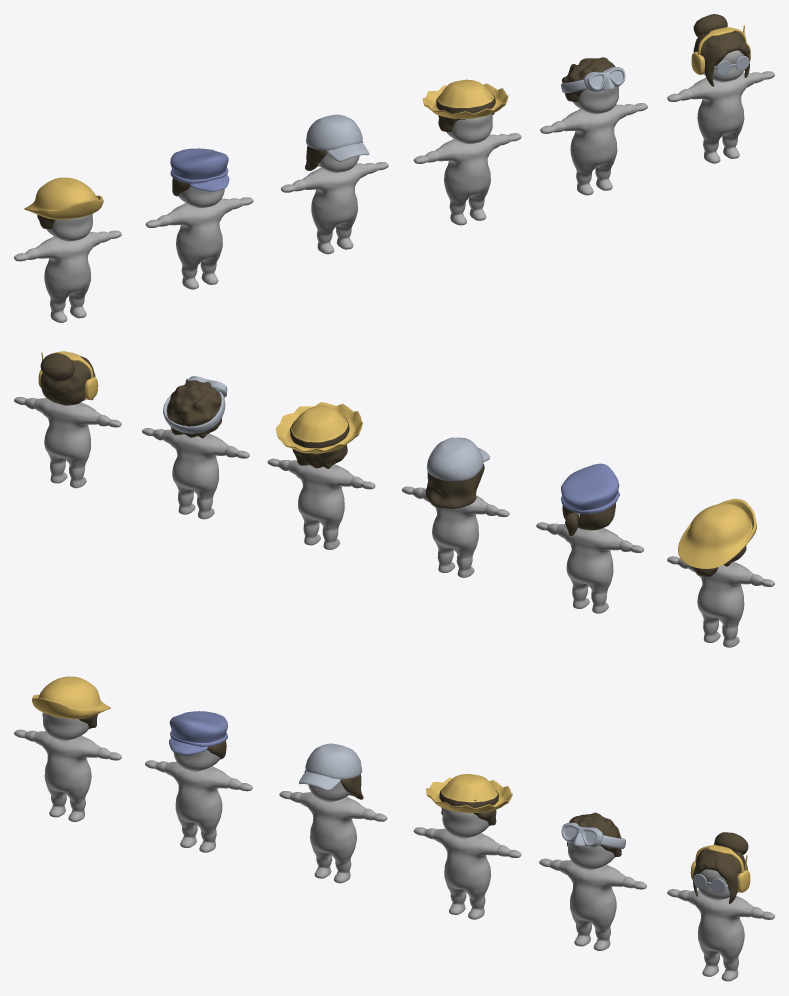
Rendered from charhat.fbx.
3 views of the same model, one above another, from view 1: azimuth 30°, elevation 25°; view 2: azimuth 150°, elevation 25°; view 3: azimuth 330°, elevation 25° (orthographic).
Visible parts, largest first — view 1: char, character_ya5, character_ya7, character_ya6, character_ya2, character_ya3, hat6, Hat1, pCylinder2, hat3, polySurface2, polySurface1 (+2 smaller); view 2: character_ya3, character_ya6, char, Hat1, character_ya5, character_ya7, hat6, character_ya2, pCylinder2, polySurface1, hat3, polySurface3 (+6 smaller); view 3: char, character_ya7, character_ya5, character_ya6, character_ya2, character_ya3, hat6, Hat1, pCylinder2, hat3, polySurface2, polySurface1 (+2 smaller).
Part boxes in pixels (left/top/right/bottom): char: left=413, top=114, right=521, bottom=225; character_ya5: left=540, top=86, right=647, bottom=195; character_ya7: left=14, top=213, right=121, bottom=322; character_ya6: left=145, top=186, right=253, bottom=289; character_ya2: left=281, top=152, right=388, bottom=254; character_ya3: left=667, top=50, right=774, bottom=163; hat6: left=422, top=79, right=508, bottom=118; Hat1: left=24, top=177, right=103, bottom=219; pCylinder2: left=170, top=148, right=229, bottom=191; hat3: left=306, top=114, right=369, bottom=161; polySurface2: left=693, top=27, right=749, bottom=86; polySurface1: left=562, top=57, right=615, bottom=101; character_ya3: left=14, top=397, right=121, bottom=488; character_ya6: left=536, top=510, right=643, bottom=613; char: left=267, top=458, right=375, bottom=549; Hat1: left=678, top=498, right=756, bottom=568; character_ya5: left=142, top=428, right=249, bottom=519; character_ya7: left=667, top=556, right=774, bottom=647; hat6: left=276, top=402, right=362, bottom=453; character_ya2: left=401, top=486, right=509, bottom=577; pCylinder2: left=561, top=463, right=619, bottom=513; polySurface1: left=167, top=380, right=221, bottom=438; hat3: left=426, top=437, right=489, bottom=481; polySurface3: left=425, top=463, right=484, bottom=508; char: left=413, top=808, right=521, bottom=919; character_ya7: left=14, top=712, right=121, bottom=821; character_ya5: left=539, top=842, right=646, bottom=950; character_ya6: left=145, top=750, right=252, bottom=852; character_ya2: left=279, top=781, right=387, bottom=883; character_ya3: left=667, top=869, right=774, bottom=981; hat6: left=426, top=774, right=512, bottom=813; Hat1: left=32, top=676, right=110, bottom=719; pCylinder2: left=169, top=711, right=227, bottom=754; hat3: left=299, top=743, right=362, bottom=790; polySurface2: left=693, top=845, right=747, bottom=903; polySurface1: left=567, top=812, right=621, bottom=857.
Size of the model in its own units: 13.81 by 2.38 by 1.52.
